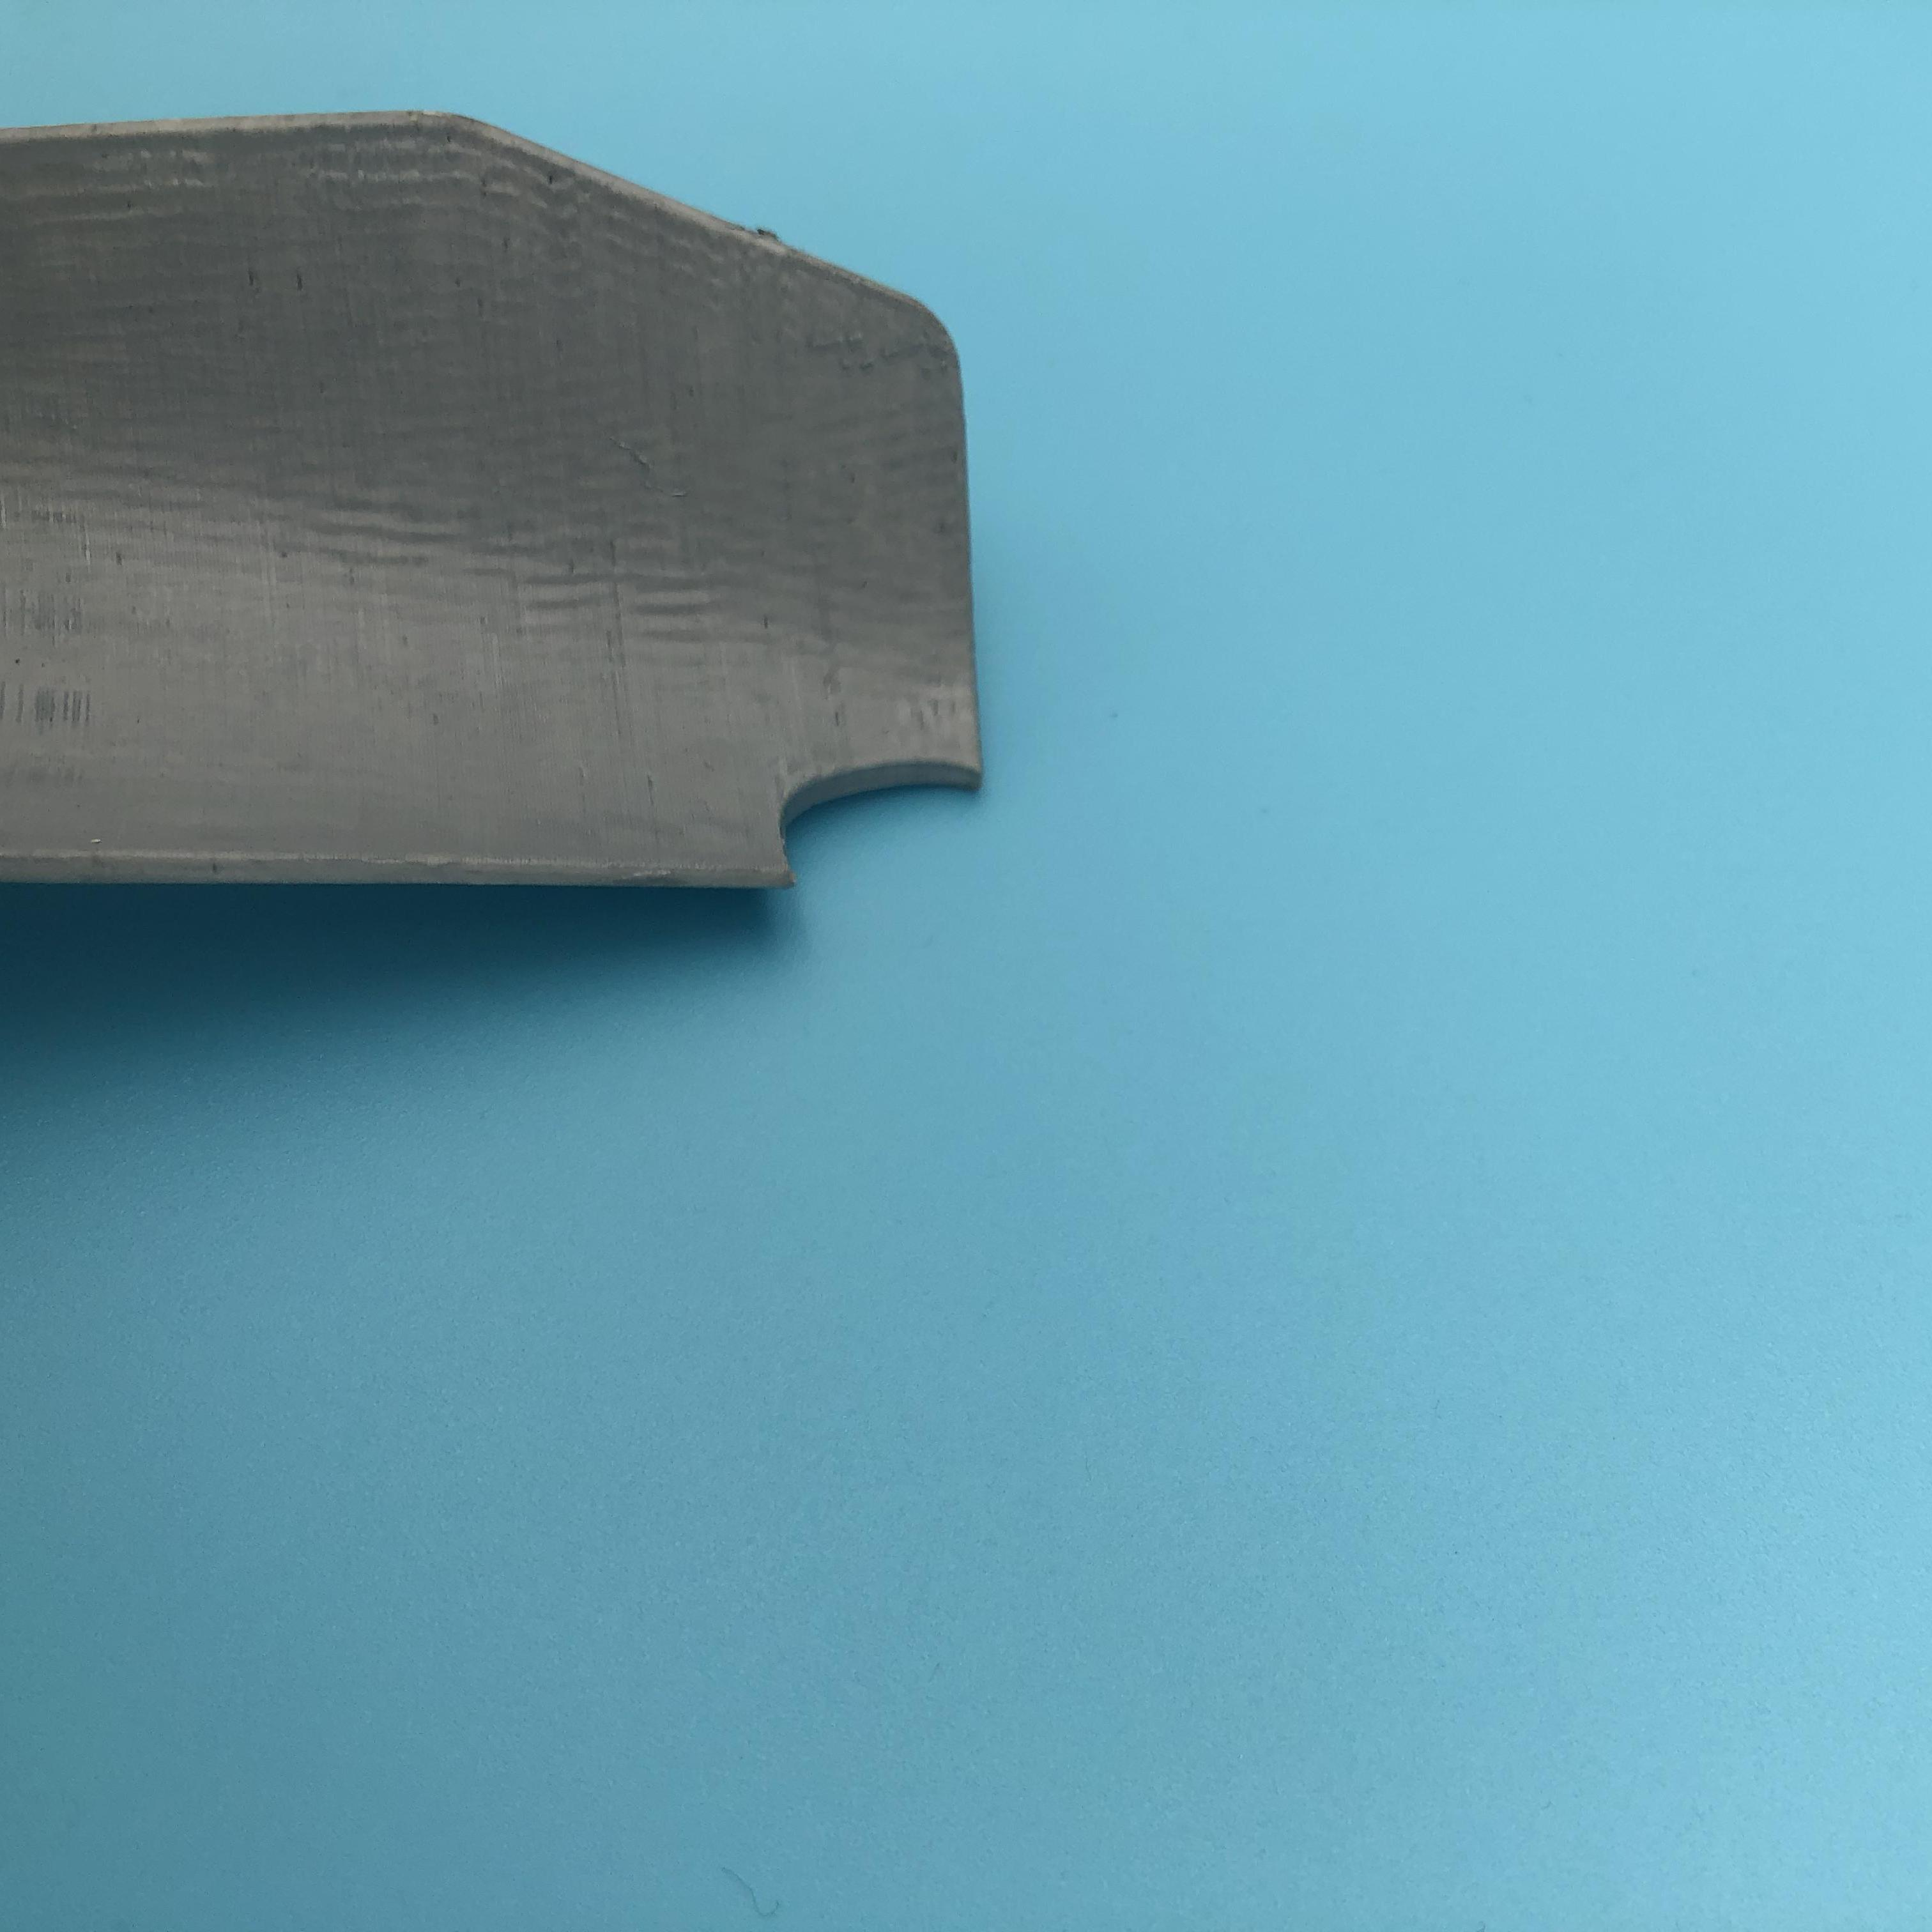fracture: (747, 736, 1005, 890)
